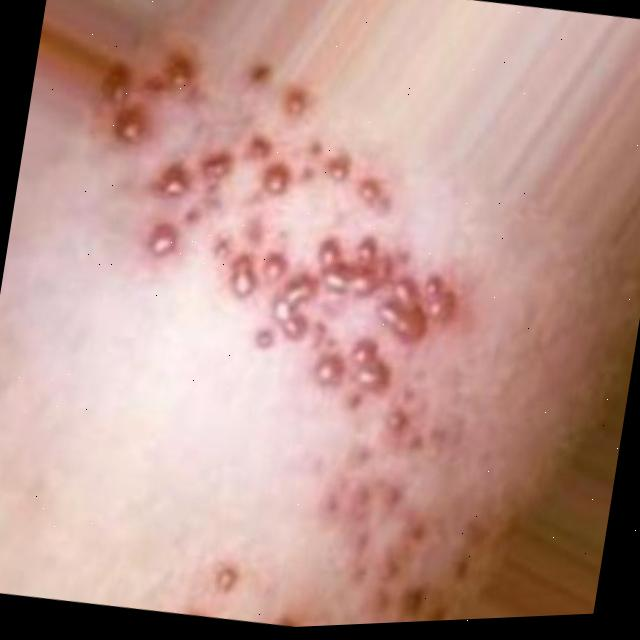Shingles: (58, 25, 486, 457), (301, 433, 510, 627), (213, 562, 237, 593), (184, 603, 206, 617), (271, 618, 288, 626)
